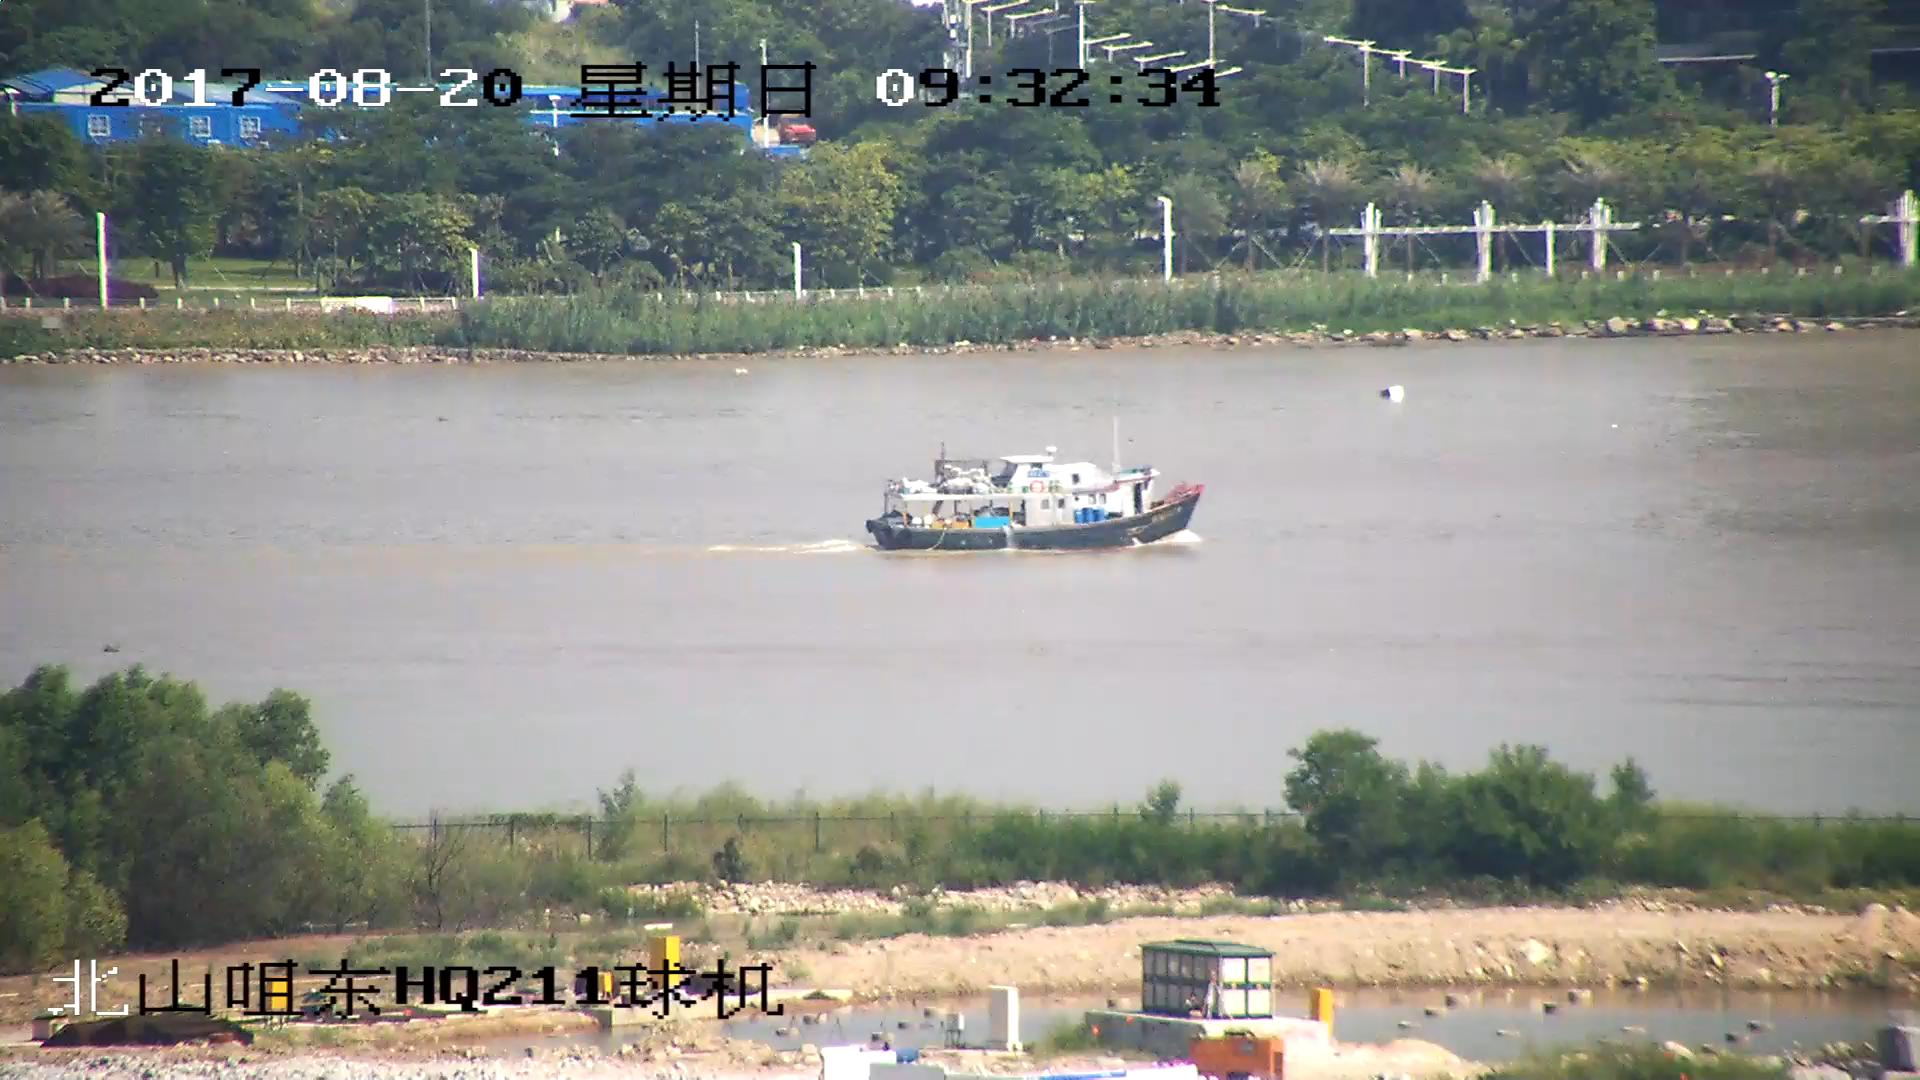fishing boat: (867, 444, 1207, 553)
